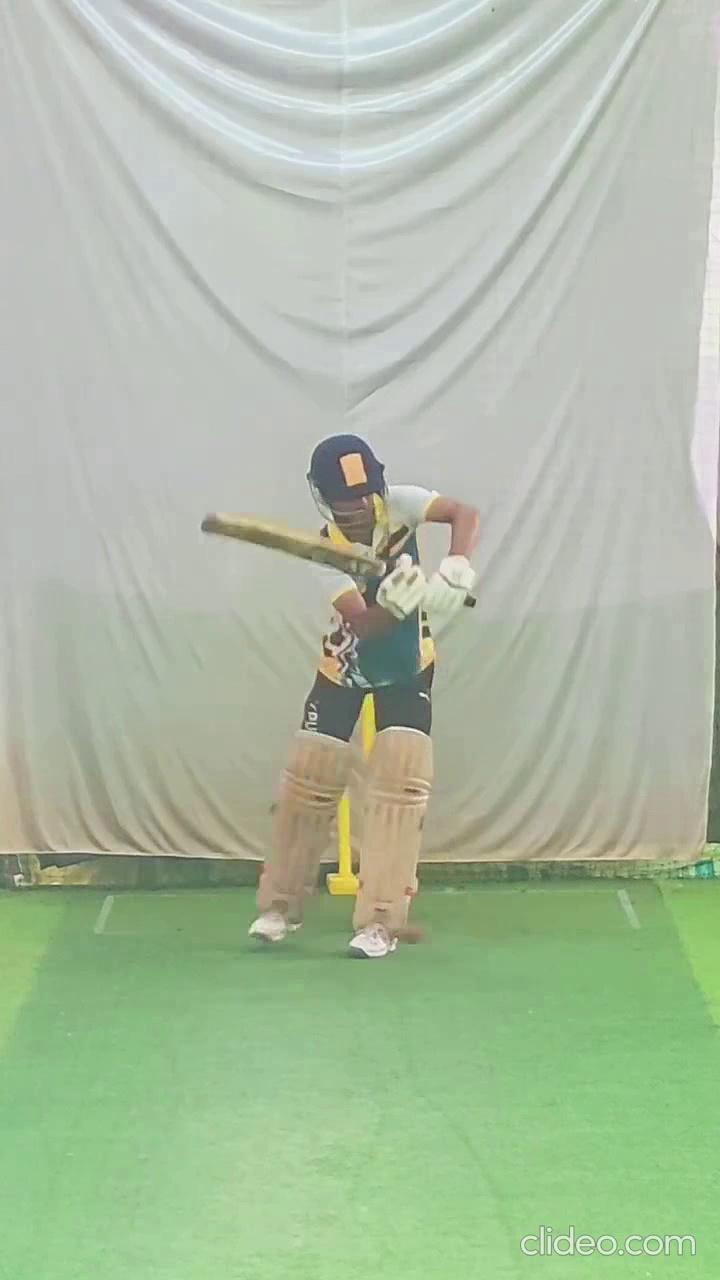bat: (193, 502, 386, 587)
